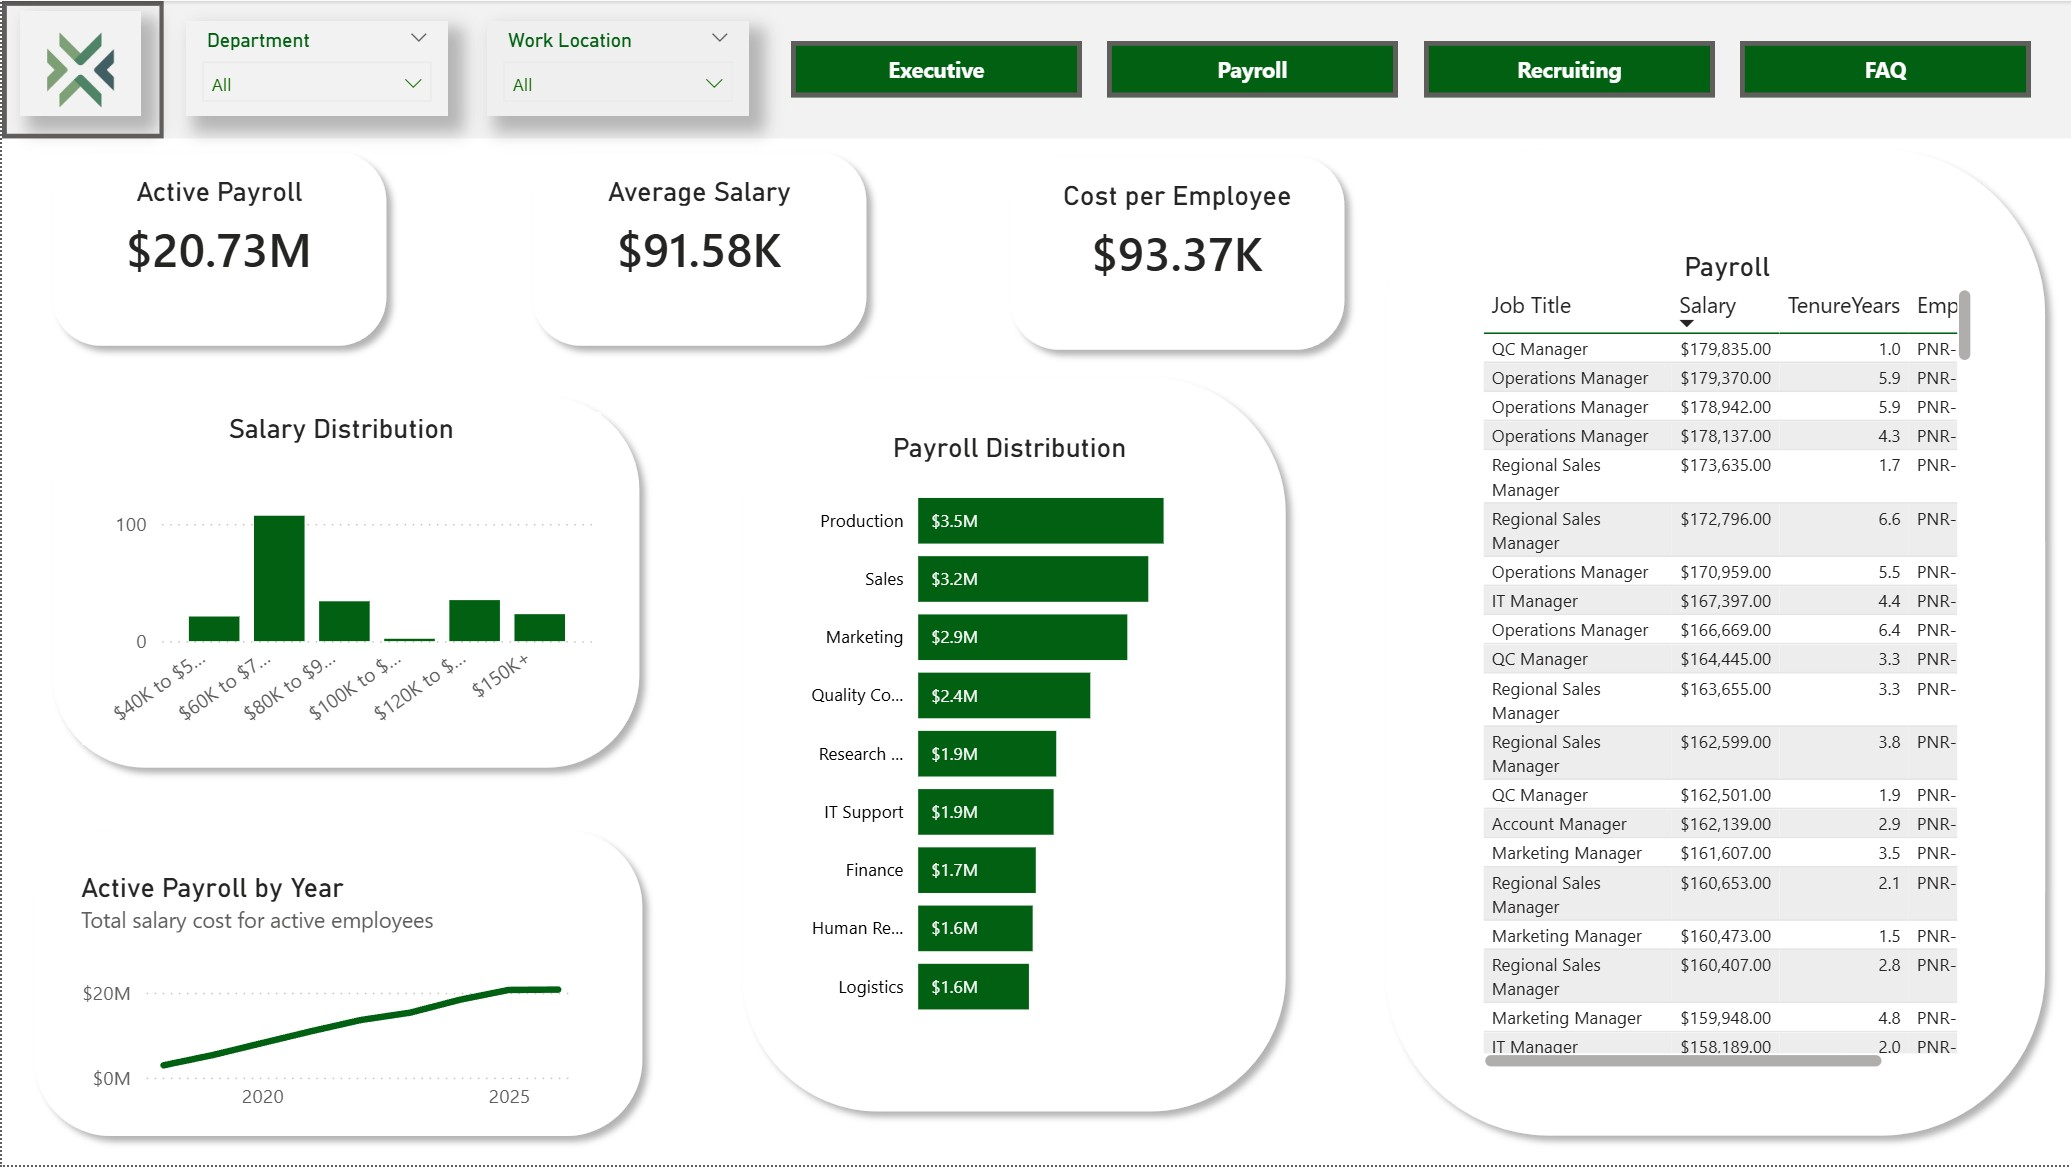

This screenshot's page, from the dashboard's own definition file:
{"tool":"powerbi","page":{"name":"Payroll ","canvas":[1280,720],"ordinal":1},"visuals":[{"type":"shape","box":[0,0,1280,85.3],"z":0,"group":"g1"},{"type":"shape","box":[847,83,426,628],"z":0,"group":"g8"},{"type":"shape","box":[22,85,224.5,137.5],"z":0,"group":"g3"},{"type":"shape","box":[319,85,224.5,137.5],"z":0,"group":"g4"},{"type":"shape","box":[615,87,224.5,137.5],"z":0,"group":"g5"},{"type":"shape","box":[449,224,354,472],"z":0,"group":"g2"},{"type":"shape","box":[22,236,381,247],"z":0,"group":"g7"},{"type":"shape","box":[11,504,394,207],"z":0,"group":"g6"},{"type":"group","id":"g1","title":"Top Bar","box":[0,0,1280,85.3],"z":1000},{"type":"actionButton","box":[487.8,24.9,179.9,34.8],"z":1000,"group":"g1"},{"type":"cardVisual","title":"Active Payroll","fields":{"Data":[".Measures.Active Payroll"]},"box":[43.2,102.9,182.5,75.5],"z":1000,"group":"g3"},{"type":"cardVisual","title":"Average Salary","fields":{"Data":["Avg(EmployeeData.Salary)"]},"box":[340.2,102.9,182.5,75.5],"z":1000,"group":"g4"},{"type":"cardVisual","title":"Cost per Employee","fields":{"Data":[".Measures.PRCost/Emp"]},"box":[636.2,104.9,182.5,75.5],"z":1000,"group":"g5"},{"type":"clusteredBarChart","title":"Payroll Distribution","fields":{"Category":["EmployeeData.test.Department "],"Y":[".Measures.Active Payroll Today"]},"box":[483.8,266.2,279.2,377.8],"z":1000,"group":"g2"},{"type":"actionButton","box":[0,0,100.4,85.1],"z":1001},{"type":"actionButton","box":[683.6,24.9,179.9,34.8],"z":2000,"group":"g1"},{"type":"group","id":"g2","title":"PayrollDist","box":[449,224,354,472],"z":2000},{"type":"slicer","fields":{"Values":["EmployeeData.Work Location"]},"box":[300,12.4,162.1,58.8],"z":3000,"group":"g1"},{"type":"group","id":"g3","title":"TotPay KPI","box":[22,85,225,138],"z":3000},{"type":"actionButton","box":[879.4,24.9,179.9,34.8],"z":4000,"group":"g1"},{"type":"group","id":"g4","title":"TotPay KPI","box":[319,85,224,137],"z":4000},{"type":"slicer","fields":{"Values":["EmployeeData.Department "]},"box":[113.8,12.4,162.1,58.8],"z":5000,"group":"g1"},{"type":"group","id":"g5","title":"TotPay KPI","box":[615,87,224,137],"z":5000},{"type":"actionButton","box":[1075.2,24.9,179.9,34.8],"z":6000,"group":"g1"},{"type":"clusteredColumnChart","title":"Salary Distribution","fields":{"Category":["EmployeeData.Salary Bin"],"Y":[".Measures.Current Headcount"]},"box":[49,254.1,320.8,205.7],"z":6000,"group":"g7"},{"type":"group","id":"g6","title":"Group 1","box":[11,504,394,207],"z":6000},{"type":"image","box":[11.1,6.2,74.8,64.9],"z":7000,"group":"g1"},{"type":"group","id":"g7","title":"Group 2","box":[22,236,381,247],"z":7000},{"type":"lineChart","title":"Active Payroll by Year","fields":{"Y":[".Measures.Active Payroll As Of"],"Category":["DateTable.Year"]},"box":[43.5,537.7,318.1,157.8],"z":7000,"group":"g6"},{"type":"tableEx","title":"Payroll","fields":{"Values":["EmployeeData.Job Title","EmployeeData.Salary","EmployeeData.TenureYears","EmployeeData.Employee ID"]},"box":[910.6,154.2,313.3,511.3],"z":8000,"group":"g8"},{"type":"group","id":"g8","title":"Group 3","box":[847,83,426,628],"z":8001}]}

Visuals, with their boxes in screenshot pixels (x1, y1, x2, y2), scaled from the page's 1280x720 canvas onto the 2071x1167 screenshot:
shape: [0,0,2070,138]
shape: [1370,135,2060,1152]
shape: [36,138,399,361]
shape: [516,138,879,361]
shape: [995,141,1358,364]
shape: [726,363,1299,1128]
shape: [36,383,652,783]
shape: [18,817,655,1152]
"Top Bar" group: [0,0,2070,138]
actionButton: [789,40,1080,97]
"Active Payroll" cardVisual: [70,167,365,289]
"Average Salary" cardVisual: [550,167,846,289]
"Cost per Employee" cardVisual: [1029,170,1325,292]
"Payroll Distribution" clusteredBarChart: [783,431,1235,1044]
actionButton: [0,0,162,138]
actionButton: [1106,40,1397,97]
"PayrollDist" group: [726,363,1299,1128]
slicer - EmployeeData.Work Location: [485,20,748,115]
"TotPay KPI" group: [36,138,400,361]
actionButton: [1423,40,1714,97]
"TotPay KPI" group: [516,138,879,360]
slicer - EmployeeData.Department : [184,20,446,115]
"TotPay KPI" group: [995,141,1357,363]
actionButton: [1740,40,2031,97]
"Salary Distribution" clusteredColumnChart: [79,412,598,745]
"Group 1" group: [18,817,655,1152]
image: [18,10,139,115]
"Group 2" group: [36,383,652,783]
"Active Payroll by Year" lineChart: [70,872,585,1127]
"Payroll" tableEx: [1473,250,1980,1079]
"Group 3" group: [1370,135,2060,1152]
